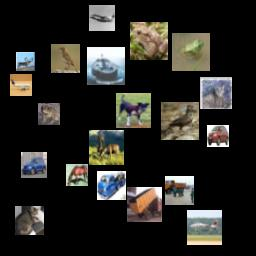airplane: (187, 210, 222, 245), (89, 5, 115, 31), (10, 74, 32, 96)
automobile: (21, 152, 47, 178), (207, 125, 229, 147)
bird: (161, 102, 199, 140), (51, 44, 80, 73)
cat: (200, 77, 232, 109), (15, 206, 44, 235)
deer: (89, 130, 124, 165), (16, 52, 35, 71)
dog: (116, 93, 151, 128)
frog: (172, 33, 210, 71), (130, 22, 168, 60), (38, 103, 60, 125)
ship: (87, 47, 125, 85)
truck: (127, 187, 162, 222), (165, 176, 194, 205), (97, 171, 126, 200)
